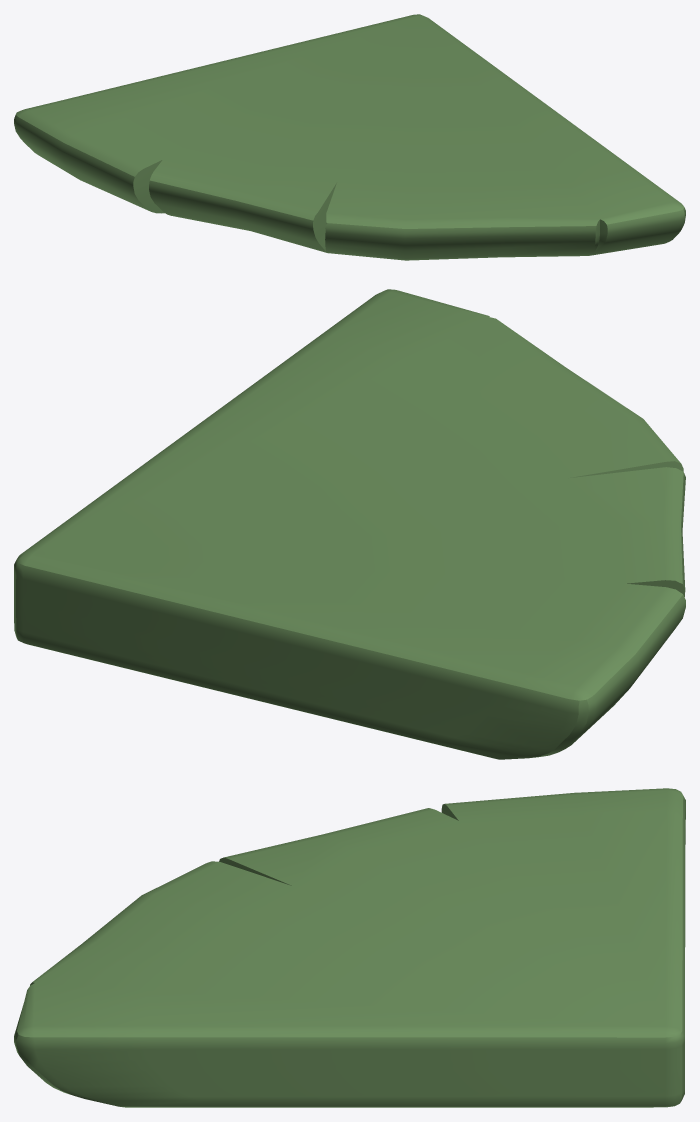
Rendered from Mostruario_03.fbx.
3 views of the same model, one above another, from view 1: azimuth 30°, elevation 25°; view 2: azimuth 150°, elevation 25°; view 3: azimuth 270°, elevation 25° (orthographic). The views are drawn at different scales.
Parts seen in each view (by area): view 1: M3; view 2: M3; view 3: M3.
Boxes of the visible parts, x1=… form: M3: x1=14, y1=14, x2=685, y2=260; M3: x1=14, y1=289, x2=685, y2=759; M3: x1=14, y1=788, x2=685, y2=1107.
Size of the model in its own units: 50.23 by 7.4 by 56.93.
